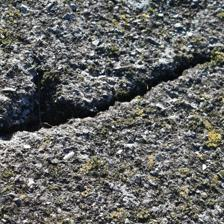Crack: (4, 27, 206, 116)
